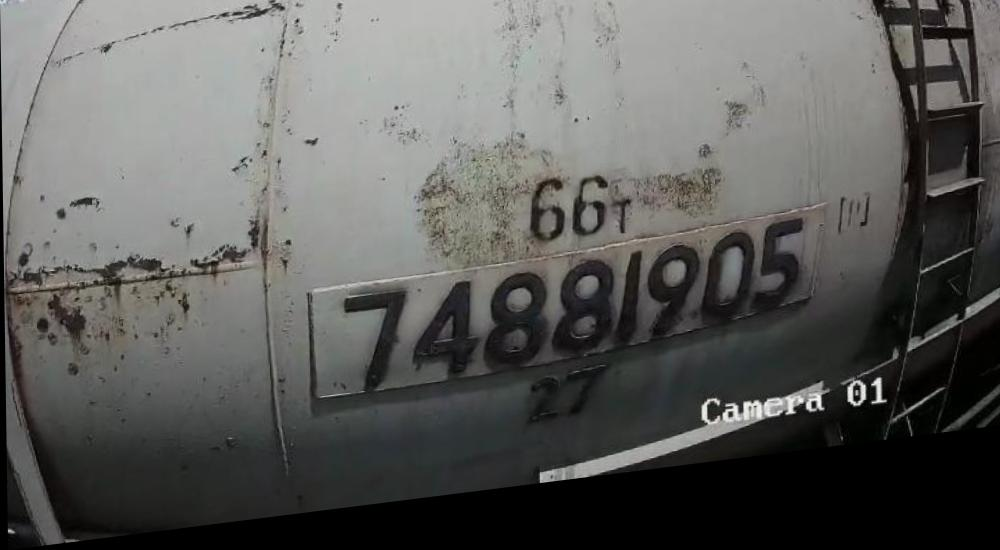Wagon-number: (332, 231, 813, 408)
